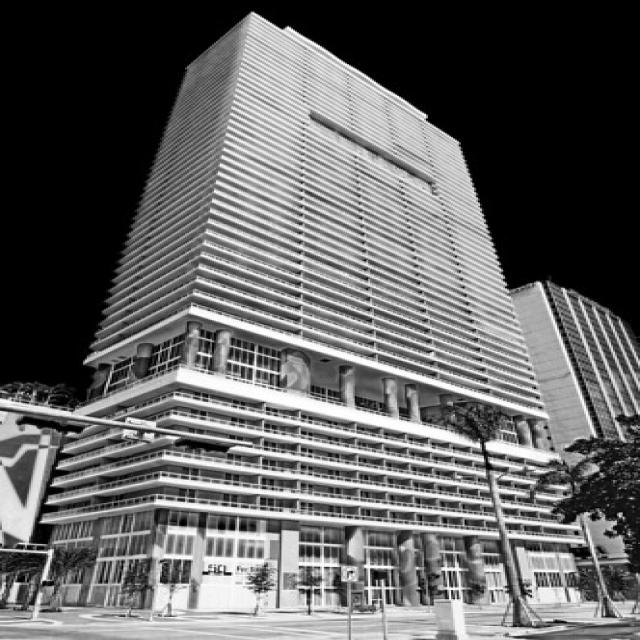Normal_building: (69, 7, 603, 640)
